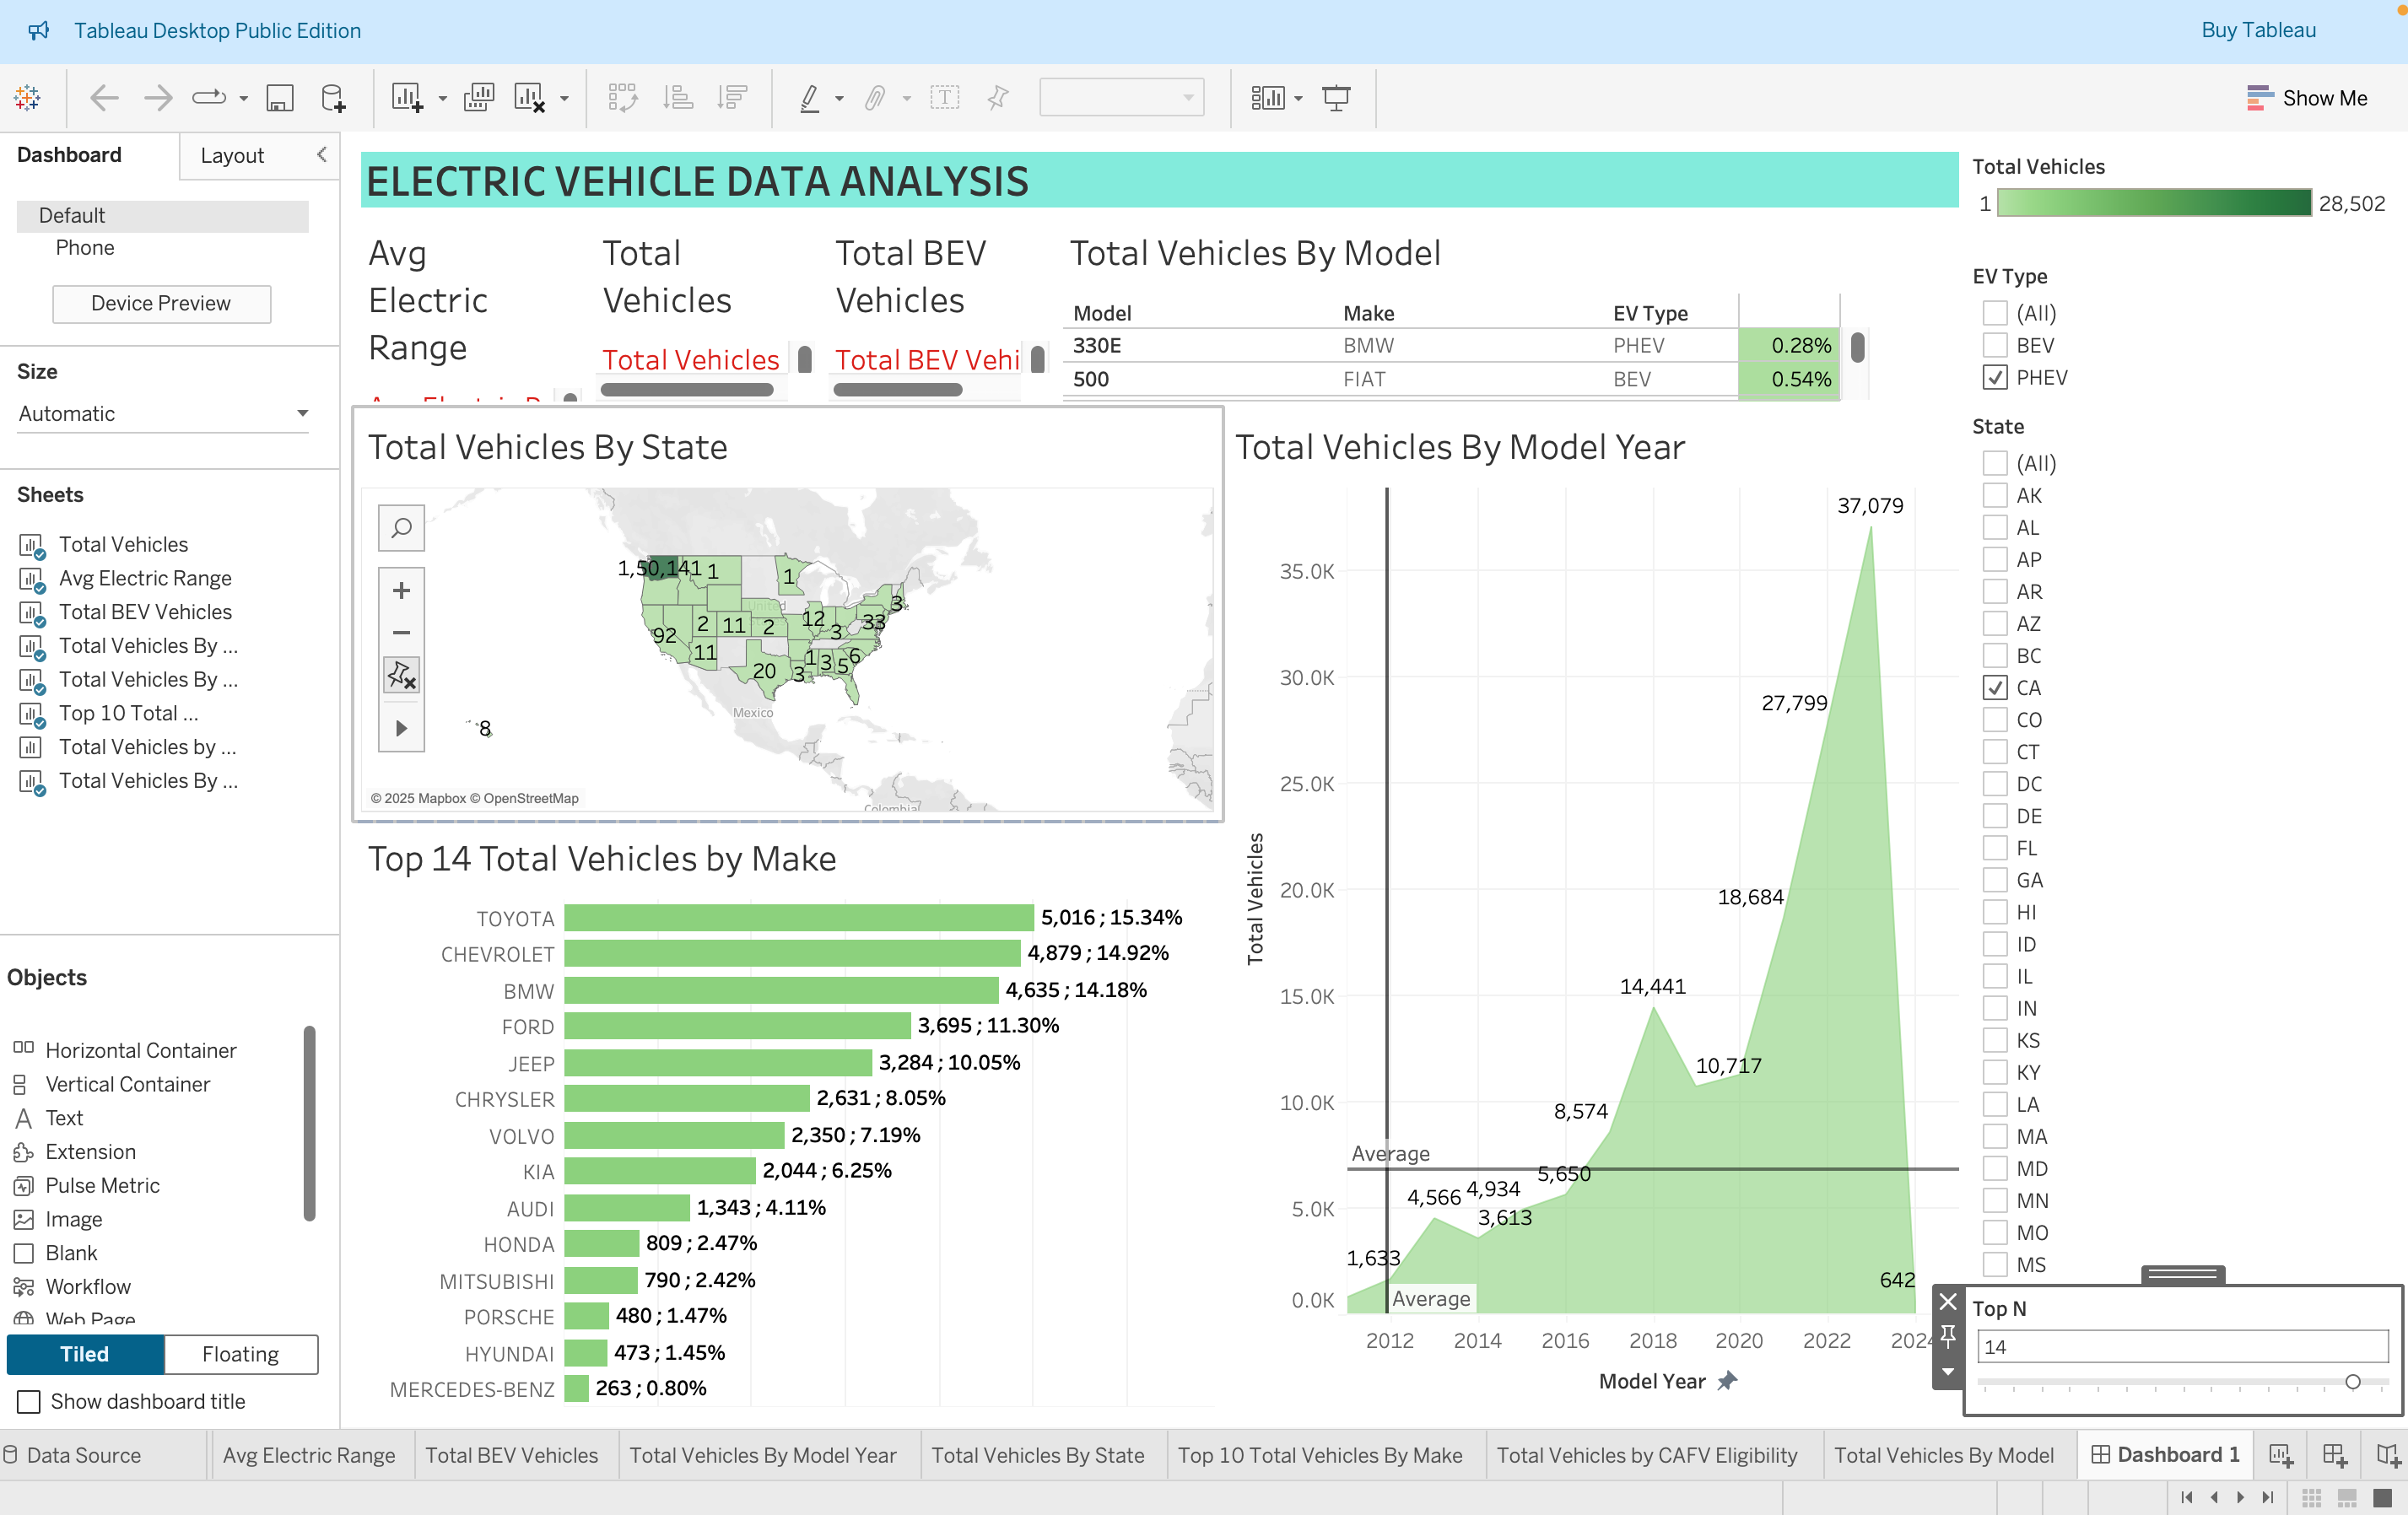

Layout of this report page (visuals, bound fields, positions):
{"tool":"tableau","page":{"name":"Dashboard 1","canvas":[1000,1000],"units":"permille","ordinal":0},"visuals":[{"type":"title","box":[6.3,10.4,784.1,53.4]},{"type":"legend","title":"Total Vehicles By Model","param":"[federated.0wszez51o8xf1g1fuwq071hb6hu8].[usr:Calculation_4931371291371540480:qk","box":[790.4,10.4,203.3,84.6]},{"type":"worksheet","title":"Avg Electric Range","mark":"Automatic","box":[6.3,63.8,113.8,149.7]},{"type":"worksheet","title":"Total Vehicles","mark":"Automatic","box":[120.1,63.8,113.8,149.7]},{"type":"worksheet","title":"Total BEV Vehicles","mark":"Automatic","box":[233.9,63.8,113.8,149.7]},{"type":"worksheet","title":"Total Vehicles By Model","mark":"Square","rows":["Model","Make","Electric Vehicle Type"],"box":[347.8,63.8,442.6,149.7]},{"type":"filter","title":"Top 10 Total Vehicles By Make","param":"[federated.0wszez51o8xf1g1fuwq071hb6hu8].[none:Electric Vehicle Type:nk]","box":[790.4,95.1,203.3,115.9]},{"type":"filter","title":"Top 10 Total Vehicles By Make","param":"[federated.0wszez51o8xf1g1fuwq071hb6hu8].[none:State:nk]","box":[790.4,211,203.3,681]},{"type":"worksheet","title":"Total Vehicles By State","mark":"Multipolygon","box":[6.3,213.6,405,317.8]},{"type":"worksheet","title":"Total Vehicles By Model Year","mark":"Area","rows":["Calculation_4931371291371540480"],"cols":["Model Year"],"box":[411.3,213.6,379.1,776]},{"type":"worksheet","title":"Top 10 Total Vehicles By Make","mark":"Automatic","rows":["Make"],"cols":["Calculation_4931371291371540480"],"box":[6.3,531.4,405,458.2]},{"type":"parameter","param":"[Parameters].[Parameter 1]","box":[790.4,891.9,203.3,97.7]}]}

Visuals, with their boxes on the dashboard's canvas, which has no fixed pixel size, in thousandths of its width and height (x1, y1, x2, y2). These are canvas units, not pixel positions in the 2408x1515 screenshot, which may show the page scaled, cropped or inside an application window:
title: 6,10,790,64
"Total Vehicles By Model" legend: 790,10,994,95
"Avg Electric Range" worksheet: 6,64,120,214
"Total Vehicles" worksheet: 120,64,234,214
"Total BEV Vehicles" worksheet: 234,64,348,214
"Total Vehicles By Model" worksheet (Square marks): 348,64,790,214
"Top 10 Total Vehicles By Make" filter: 790,95,994,211
"Top 10 Total Vehicles By Make" filter: 790,211,994,892
"Total Vehicles By State" worksheet (Multipolygon marks): 6,214,411,531
"Total Vehicles By Model Year" worksheet (Area marks): 411,214,790,990
"Top 10 Total Vehicles By Make" worksheet: 6,531,411,990
parameter: 790,892,994,990
